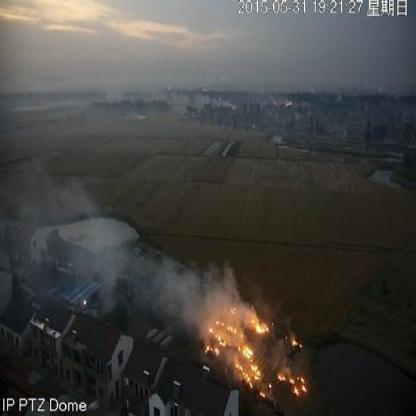fire: (204, 292, 271, 397), (276, 366, 308, 394), (291, 338, 301, 354)
smoke: (156, 256, 206, 330)
